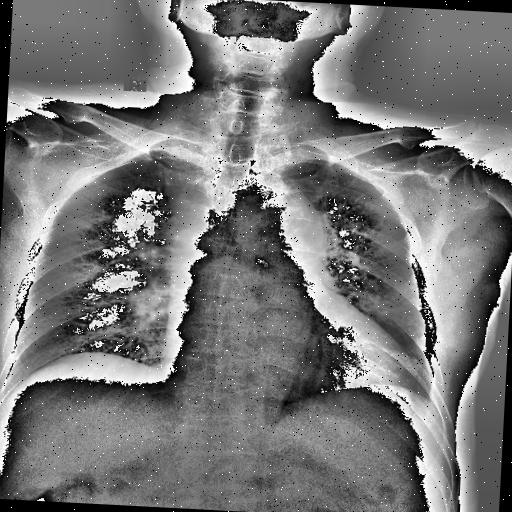0- Aortic enlargement: (232, 178, 329, 282), (220, 187, 322, 263), (241, 178, 329, 260)
3- Cardiomegaly: (167, 298, 416, 394), (160, 318, 424, 400), (158, 331, 417, 410)
6- Infiltration: (280, 210, 390, 320), (120, 224, 173, 276)
7- Lung Opacity: (153, 138, 218, 262)
